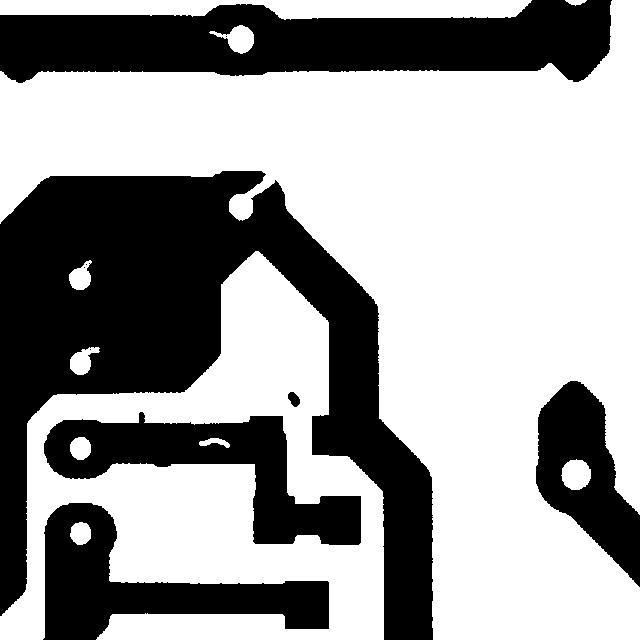copper: (278, 382, 309, 416)
mousebite: (199, 21, 245, 51), (71, 337, 109, 364), (70, 250, 101, 281)
open: (231, 164, 284, 214)
pin-hole: (189, 428, 239, 457)
spur: (128, 402, 154, 438)
